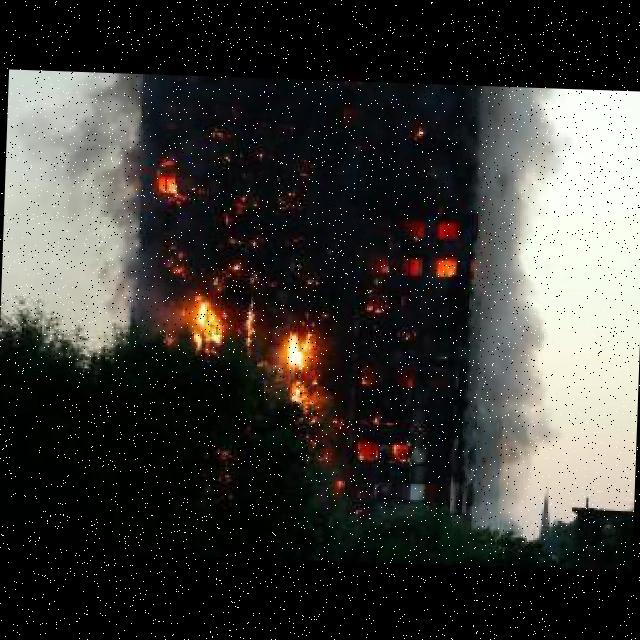fire: (100, 65, 550, 542)
